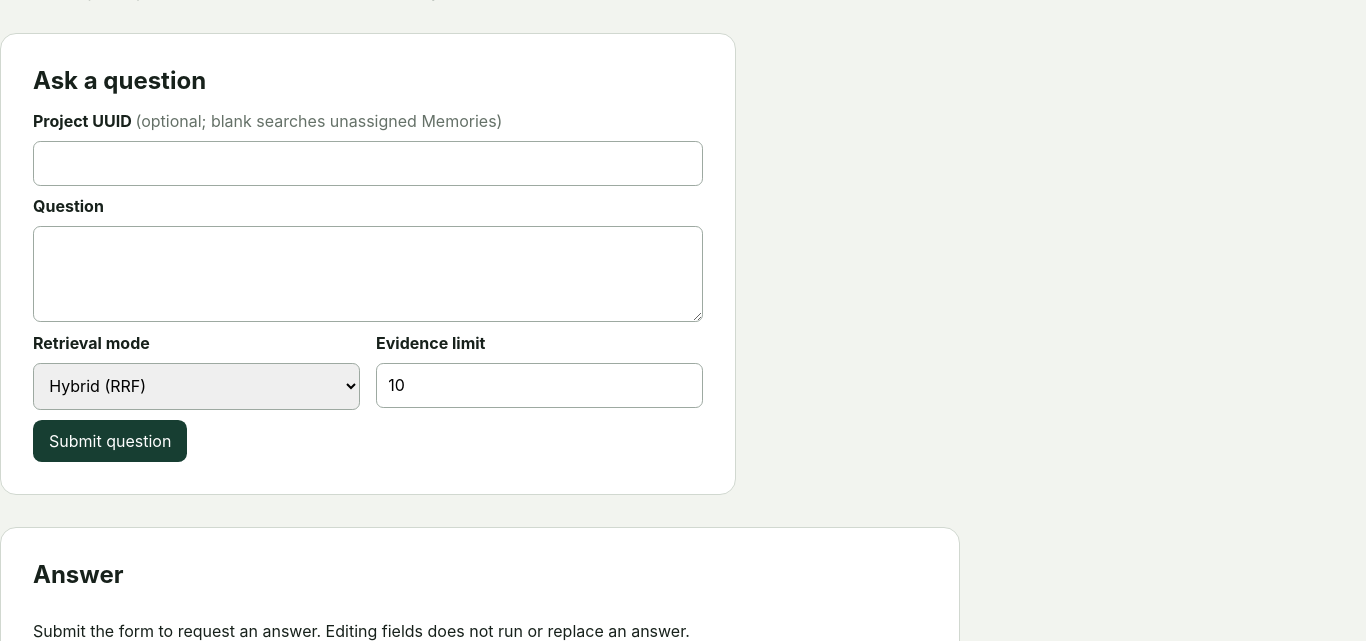
Test: evidence-backed answers › renders the valid no-evidence state without inventing support
The image size is (1366, 641).
In the text box labelled "Question": (368, 274) [33,226,703,322], type "Unknown?"
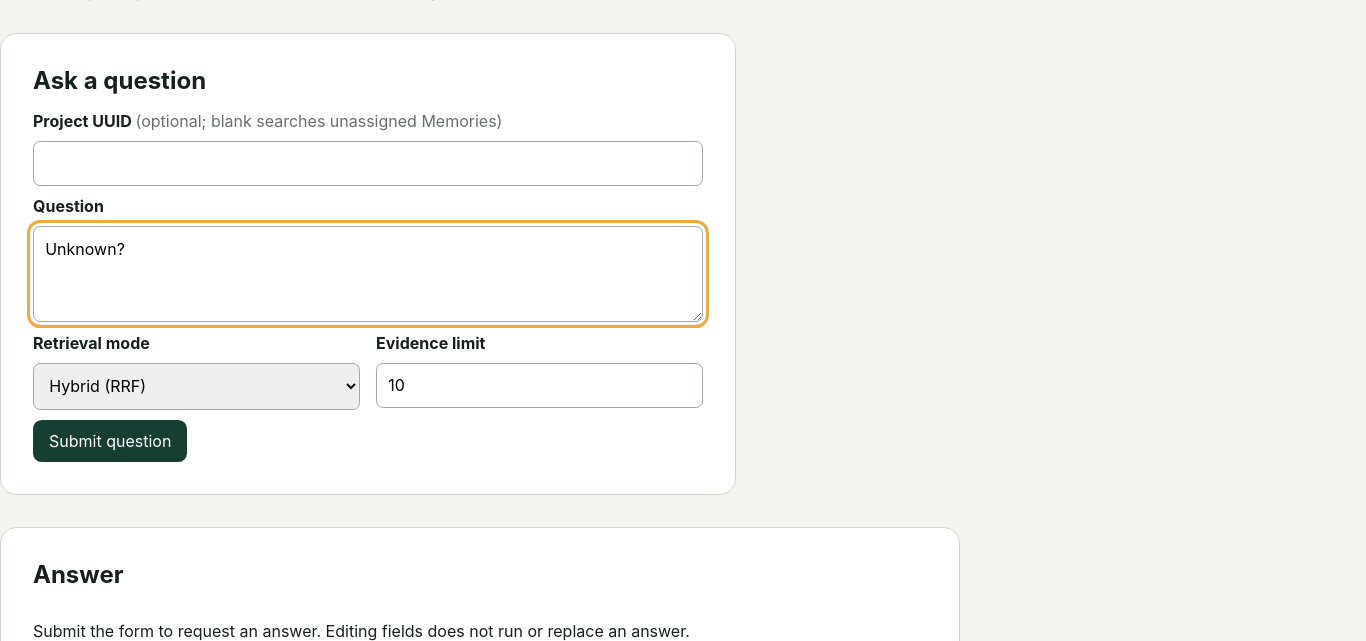
Click the button "Submit question": (110, 441) [33,420,187,462]
(page scrolled)
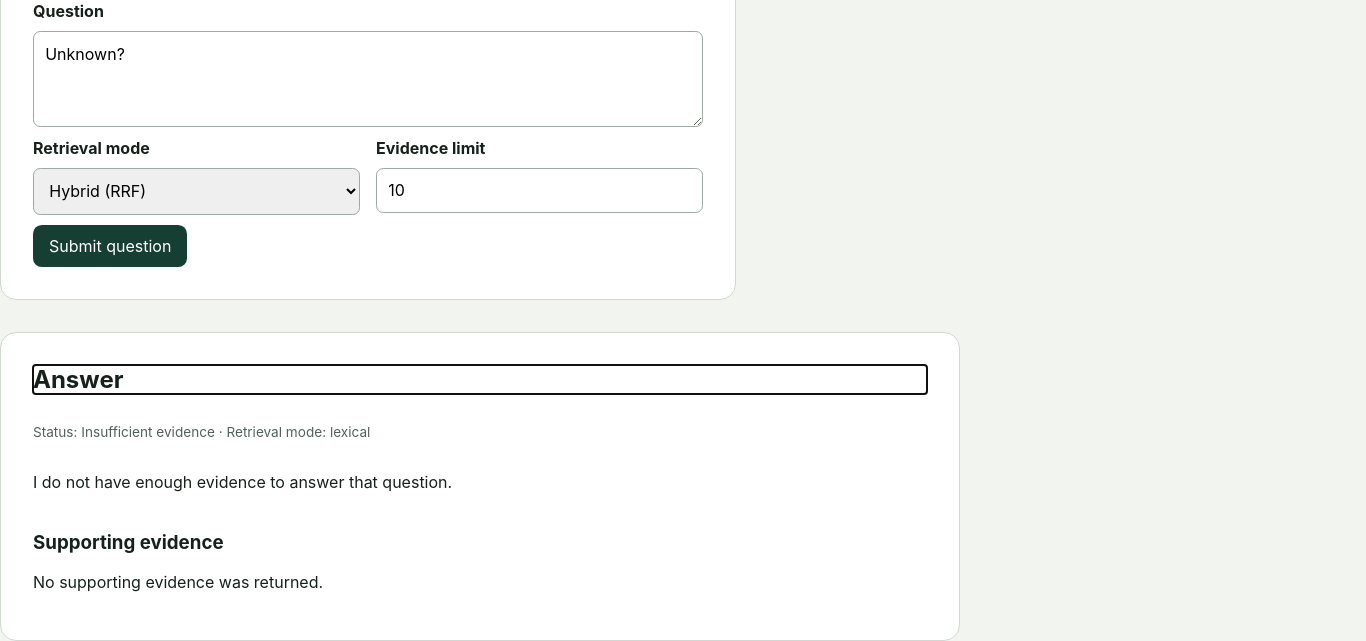
Check: the text "No supporting evidence was returned." is shown, box [33,572,323,592]
